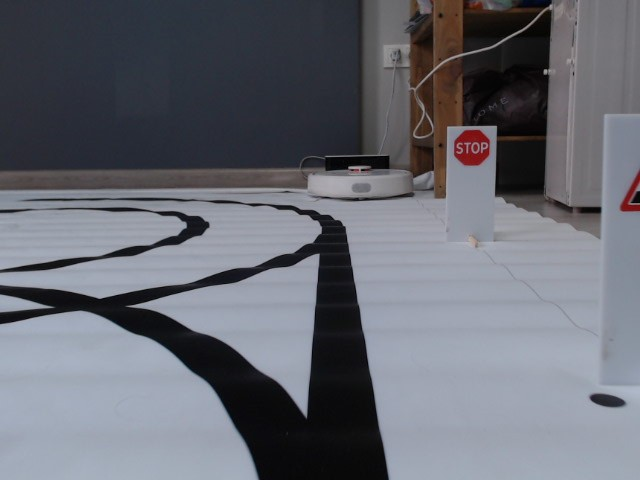Stop: (453, 128, 489, 167)
